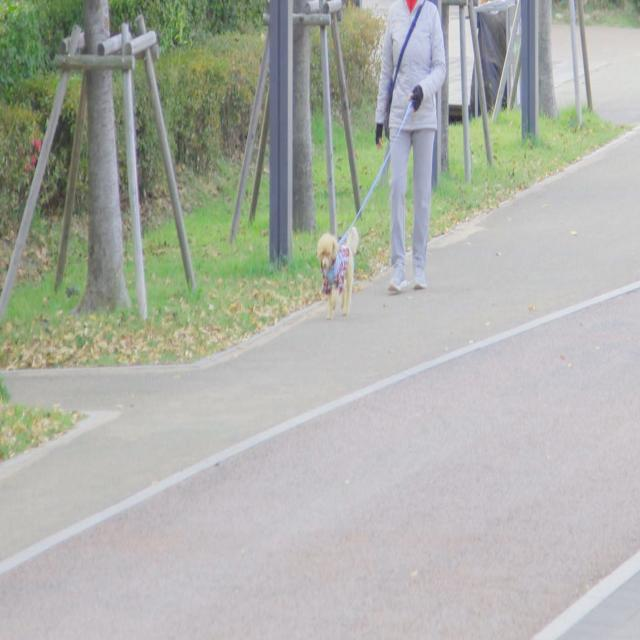Leashed_Dog: (316, 84, 425, 320)
